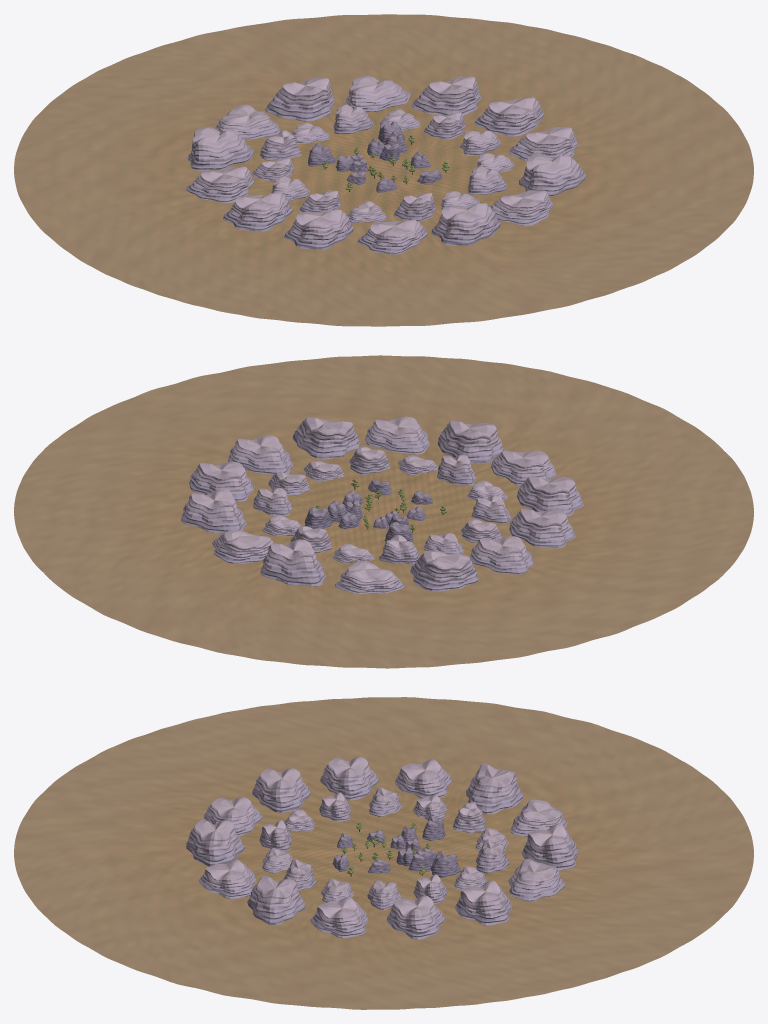
File: environment.glb
3 views of the same model, one above another, from view 1: azimuth 30°, elevation 25°; view 2: azimuth 150°, elevation 25°; view 3: azimuth 270°, elevation 25° (orthographic).
Parts seen in each view (by area): view 1: Terrain - continuous 226 unit basin with flat action clearin, Distant mountain 1 03, Distant mountain 1 10, Distant mountain 1 05, Distant mountain 1 08, Distant mountain 1 01, Distant mountain 1 12, Distant mountain 1 07, Distant mountain 1 00, Distant mountain 1 06, Distant mountain 1 09, Distant mountain 1 02 (+15 smaller); view 2: Terrain - continuous 226 unit basin with flat action clearin, Distant mountain 1 03, Distant mountain 1 05, Distant mountain 1 12, Distant mountain 1 10, Distant mountain 1 01, Distant mountain 1 07, Distant mountain 1 08, Distant mountain 1 06, Distant mountain 1 13, Distant mountain 1 11, Distant mountain 1 00 (+16 smaller); view 3: Terrain - continuous 226 unit basin with flat action clearin, Distant mountain 1 12, Distant mountain 1 05, Distant mountain 1 10, Distant mountain 1 08, Distant mountain 1 01, Distant mountain 1 03, Distant mountain 1 00, Distant mountain 1 07, Distant mountain 1 02, Distant mountain 1 13, Distant mountain 1 11 (+16 smaller).
Part boxes in pixels (<box>): Terrain - continuous 226 unit basin with flat action clearin: <box>14,14,753,326</box>; Distant mountain 1 03: <box>265,78,334,121</box>; Distant mountain 1 10: <box>431,203,500,245</box>; Distant mountain 1 05: <box>188,127,253,170</box>; Distant mountain 1 08: <box>284,209,353,249</box>; Distant mountain 1 01: <box>411,76,481,115</box>; Distant mountain 1 12: <box>519,155,586,195</box>; Distant mountain 1 07: <box>223,192,292,231</box>; Distant mountain 1 00: <box>474,97,544,136</box>; Distant mountain 1 06: <box>186,166,254,203</box>; Distant mountain 1 09: <box>357,219,427,254</box>; Distant mountain 1 02: <box>346,76,410,111</box>; Terrain - continuous 226 unit basin with flat action clearin: <box>14,355,753,668</box>; Distant mountain 1 03: <box>260,539,326,586</box>; Distant mountain 1 05: <box>410,550,478,591</box>; Distant mountain 1 12: <box>292,417,360,459</box>; Distant mountain 1 10: <box>437,420,504,463</box>; Distant mountain 1 01: <box>181,489,246,533</box>; Distant mountain 1 07: <box>509,509,575,548</box>; Distant mountain 1 08: <box>517,475,583,516</box>; Distant mountain 1 06: <box>470,536,533,574</box>; Distant mountain 1 13: <box>228,435,293,475</box>; Distant mountain 1 11: <box>365,416,429,454</box>; Distant mountain 1 00: <box>189,461,253,501</box>; Terrain - continuous 226 unit basin with flat action clearin: <box>14,697,753,1009</box>; Distant mountain 1 12: <box>247,875,306,925</box>; Distant mountain 1 05: <box>466,763,523,814</box>; Distant mountain 1 10: <box>186,819,245,866</box>; Distant mountain 1 08: <box>252,768,311,812</box>; Distant mountain 1 01: <box>455,880,512,925</box>; Distant mountain 1 03: <box>521,823,578,870</box>; Distant mountain 1 00: <box>386,895,445,939</box>; Distant mountain 1 07: <box>320,756,378,800</box>; Distant mountain 1 02: <box>508,859,564,901</box>; Distant mountain 1 13: <box>310,897,368,938</box>; Distant mountain 1 11: <box>198,859,256,898</box>.
Size of the model in its own units: 452 by 19 by 452.
